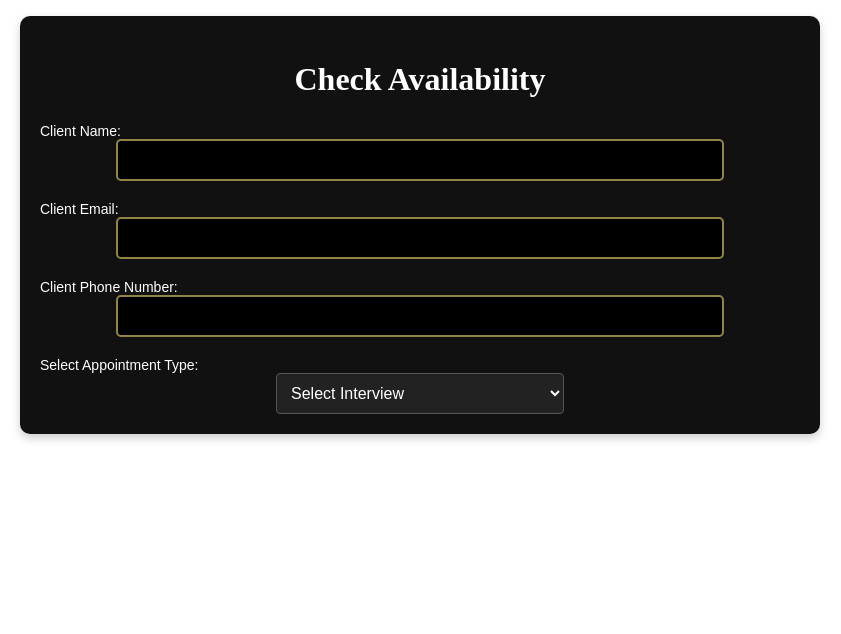
it: application offers Bartender Interview Part 1 - Virtual (1 hour, @ B) with the correct interview process
Step 1. Select "Bartender Interview Part 1 - Virtual" in the dropdown → [420, 394], box [276, 373, 564, 414]
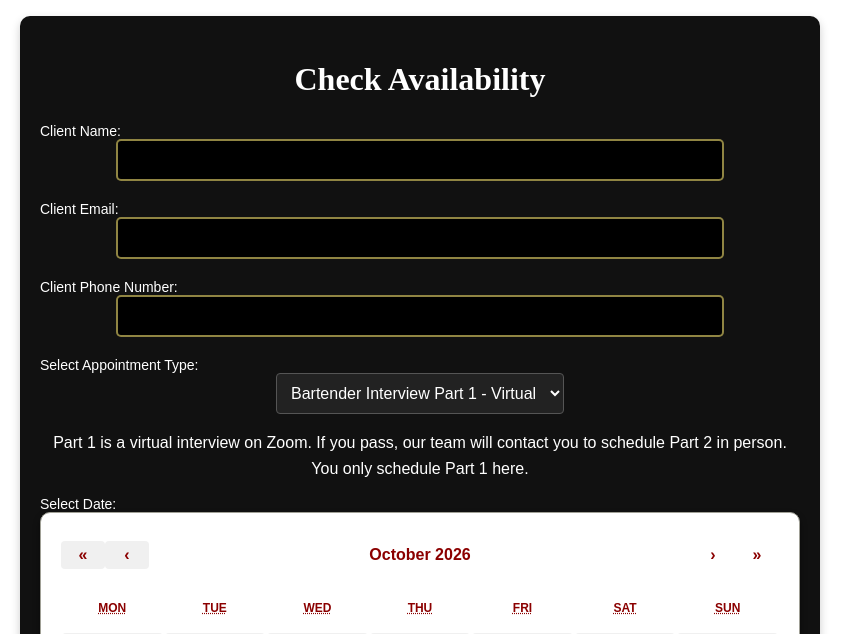
Now the text "You only schedule Part 1 here" is shown, box [53, 434, 787, 477]
